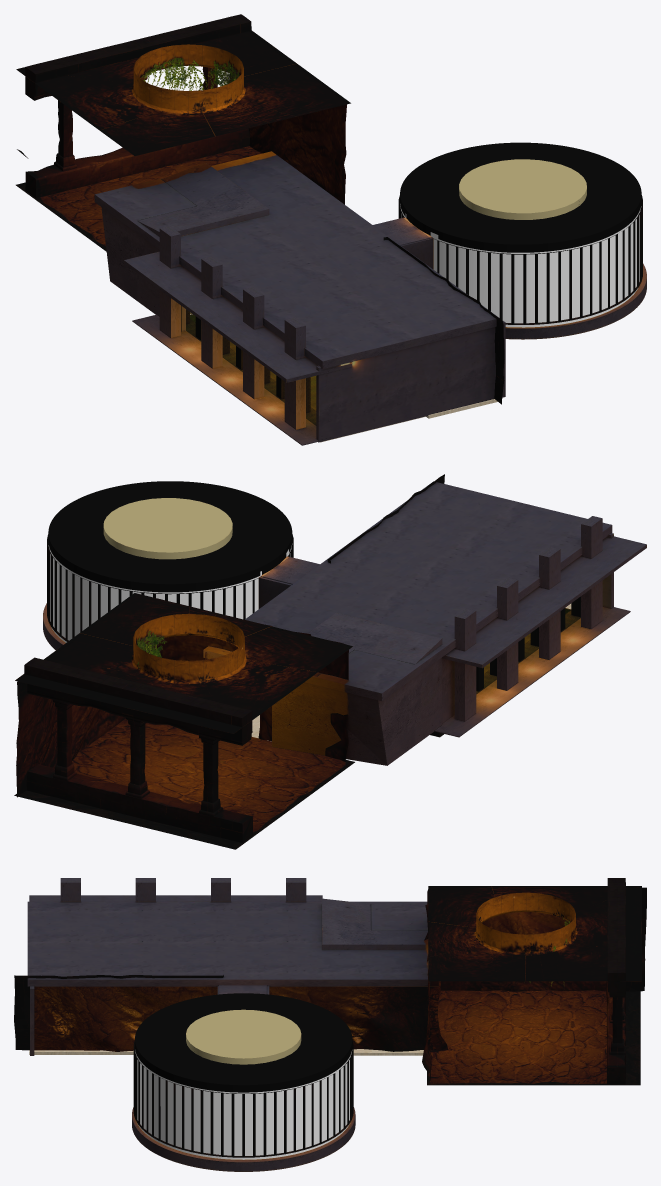
The model's file is main_scene.glb.
3 views of the same model, one above another, from view 1: azimuth 30°, elevation 25°; view 2: azimuth 150°, elevation 25°; view 3: azimuth 270°, elevation 25° (orthographic). The views are drawn at different scales.
Parts seen in each view (by area): view 1: Ceil_Main, Celing_Mid, gallery roof, Wall_Front, Window, Columns_Mid, Cube.004, Piers.001, Cylinder.001, Header_L, Wall_Mid.002, window beams (+6 smaller); view 2: Ceil_Main, Celing_Mid, Columns_Mid, Floor_Mid, gallery roof, Cube.004, Wall_Mid.002, Piers.001, Cylinder.001, Header_L, Window, Sill_L (+6 smaller); view 3: Ceil_Main, Floor_Mid, Celing_Mid, gallery roof, Window, Wall_Mid, Wall_Mid.001, window beams, Cylinder.001, Wall_Mid.002, Columns_Mid, Cube.004 (+5 smaller).
Part boxes in pixels (x1,y1,x2,y2): Ceil_Main: (94,151,499,368); Celing_Mid: (16,30,350,155); gallery roof: (400,142,641,252); Wall_Front: (316,321,505,442); Window: (400,204,641,327); Columns_Mid: (25,14,251,198); Cube.004: (101,162,269,316); Piers.001: (159,226,305,429); Cylinder.001: (459,159,586,219); Header_L: (124,251,352,382); Wall_Mid.002: (17,31,346,204); window beams: (398,195,642,324); Ceil_Main: (203,481,612,701); Celing_Mid: (15,593,352,733); Columns_Mid: (24,657,252,842); Floor_Mid: (14,718,354,849); gallery roof: (48,481,292,592); Cube.004: (272,612,442,765); Wall_Mid.002: (16,594,348,797); Piers.001: (454,516,602,721); Cylinder.001: (103,498,232,559); Header_L: (442,536,646,668); Window: (48,543,292,642); Sill_L: (434,607,630,737); Ceil_Main: (27,901,438,986); Floor_Mid: (427,990,640,1085); Celing_Mid: (428,886,641,981); gallery roof: (135,993,352,1092); Window: (135,1050,352,1159); Wall_Mid: (14,975,223,1051); Wall_Mid.001: (269,981,448,1051); window beams: (133,1040,353,1157); Cylinder.001: (186,1009,301,1064); Wall_Mid.002: (422,887,646,1080); Columns_Mid: (606,878,625,1084); Cube.004: (322,898,428,949).
Size of what is drawn, in the model's own units: 22.1 by 6.75 by 29.07.
Materials: 45 (43 with a texture image).
